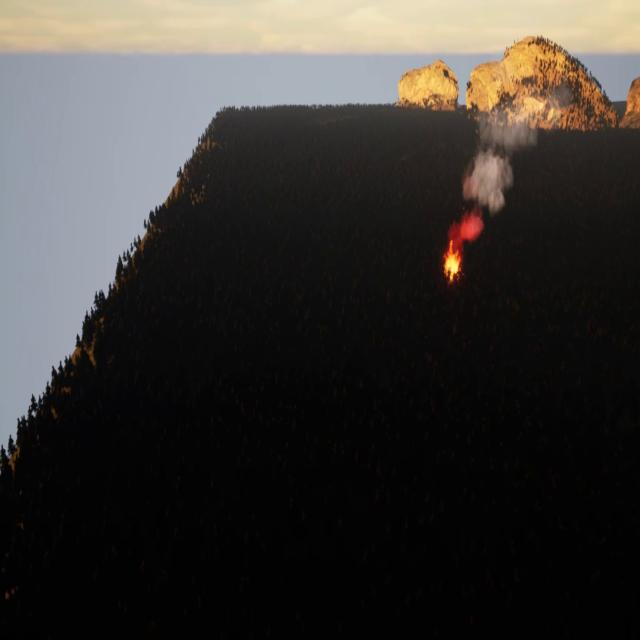fire: (442, 242, 462, 281)
smoke: (451, 84, 567, 241)
